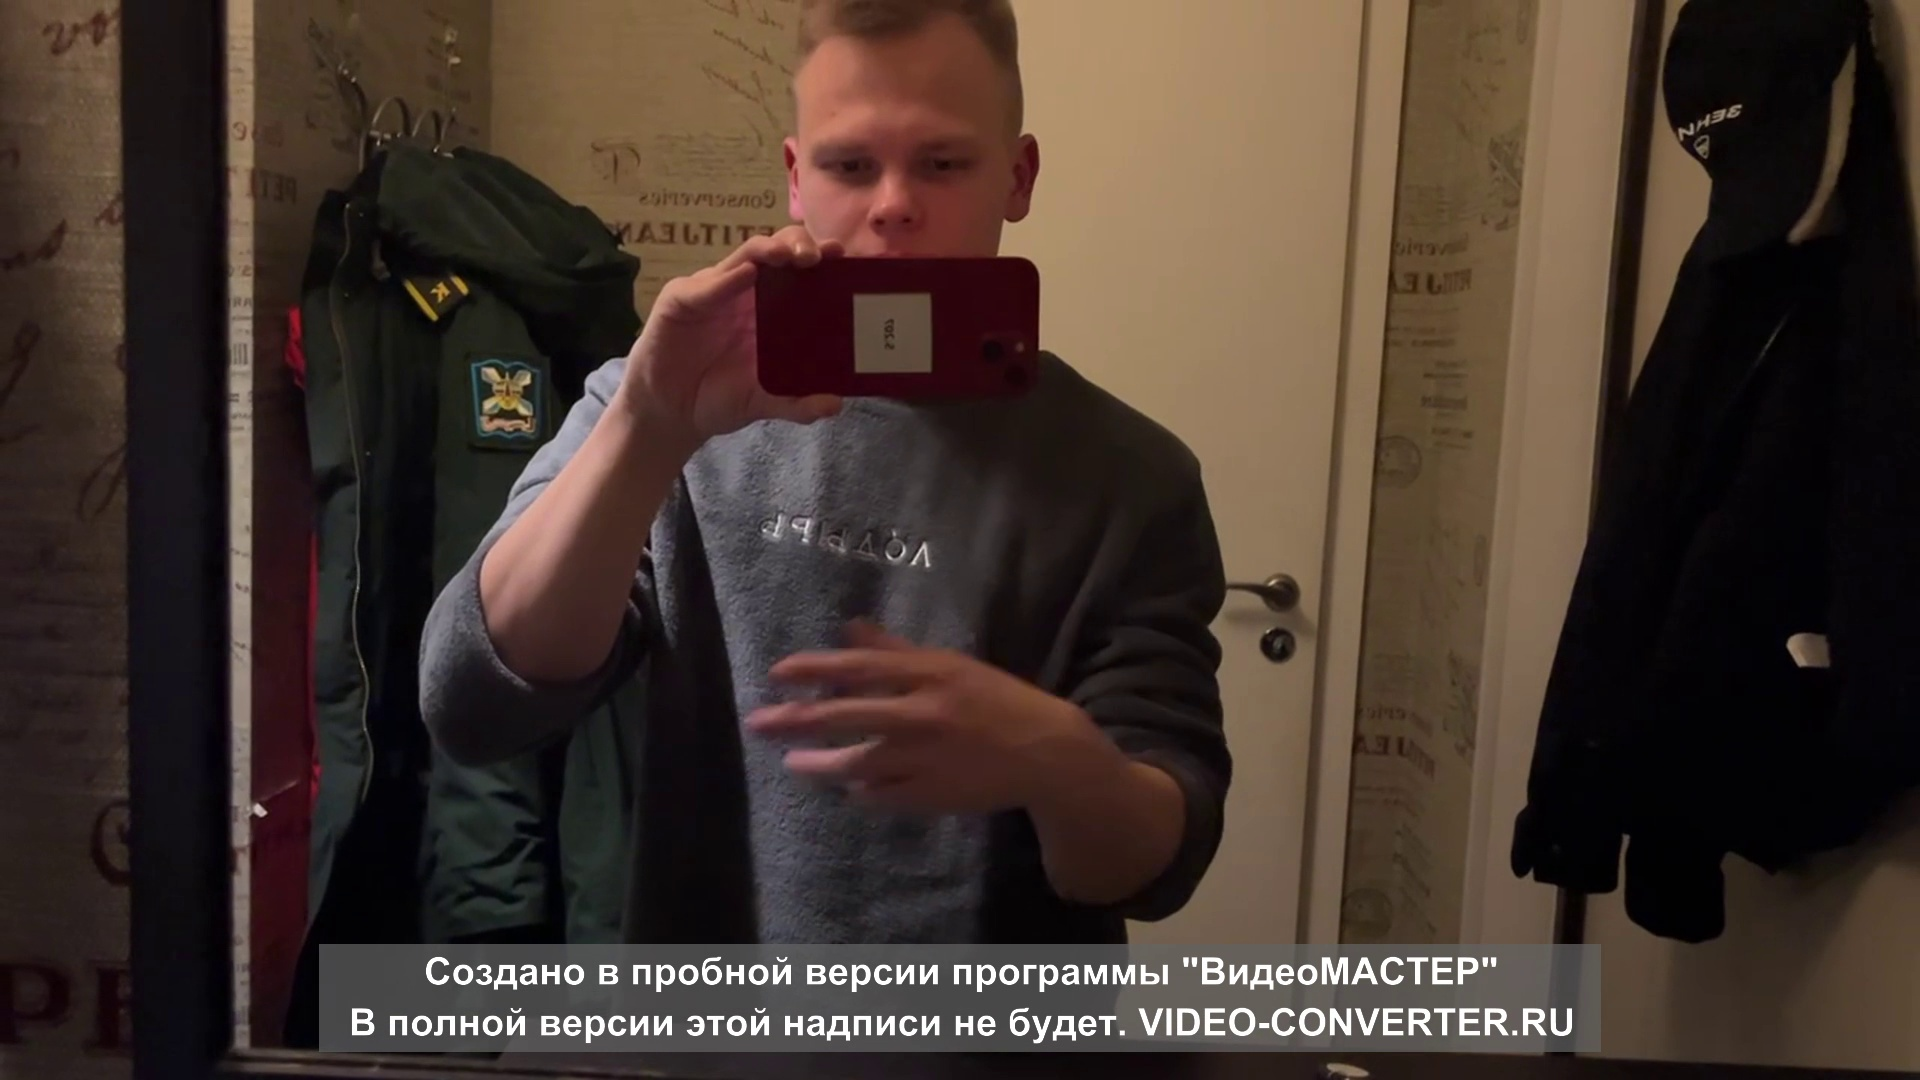Кисть: (744, 618, 1030, 811)
